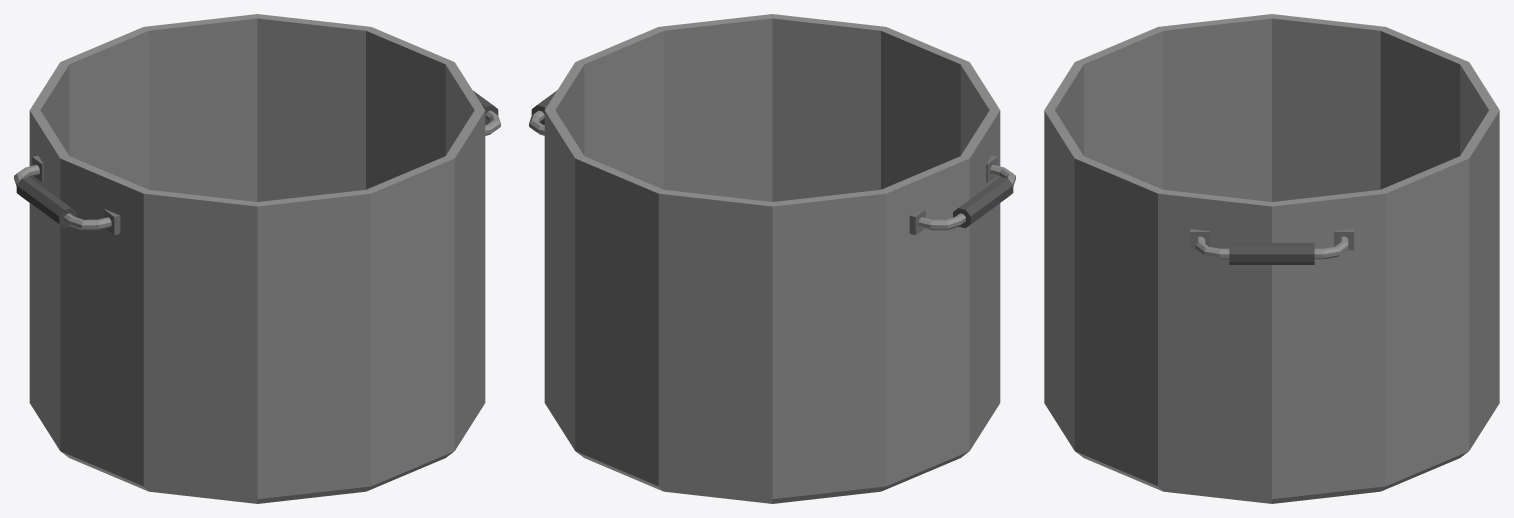
Rendered from Pan_01_C1.fbx.
3 renders of one model, left to right at view 1: azimuth 30°, elevation 25°; view 2: azimuth 150°, elevation 25°; view 3: azimuth 270°, elevation 25°, orthographic.
Visible parts, largest first — view 1: Pan_01_C1; view 2: Pan_01_C1; view 3: Pan_01_C1.
Part boxes in pixels (x1,y1,x2,y2): Pan_01_C1: (14,14,500,503); Pan_01_C1: (529,14,1015,503); Pan_01_C1: (1044,14,1499,503).
Bounding box in the file's own units: 31.07 × 20.41 × 27.92.
